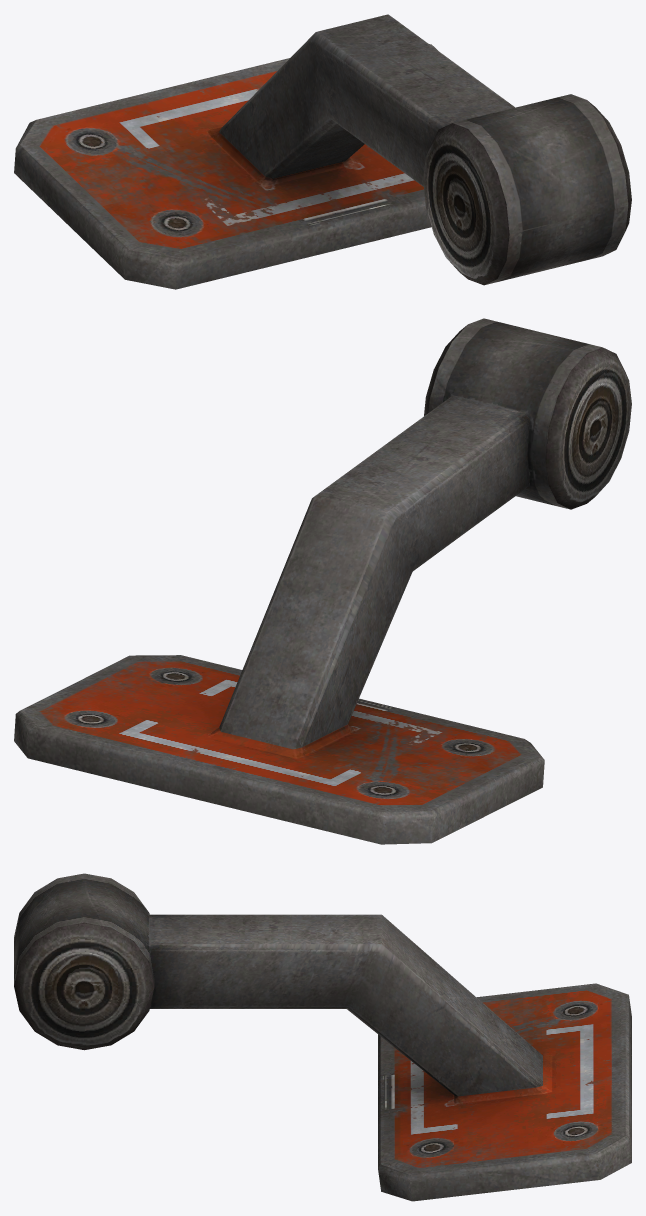
The model's file is roof_support_girder_tau_top.dae.
3 renders of one model, top to bottom at view 1: azimuth 30°, elevation 25°; view 2: azimuth 150°, elevation 25°; view 3: azimuth 270°, elevation 25°, orthographic. The views are drawn at different scales.
Visible parts, largest first — view 1: pCylinder3; view 2: pCylinder3; view 3: pCylinder3.
Part boxes in pixels (x1,y1,x2,y2): pCylinder3: (14,14,631,289); pCylinder3: (14,318,631,844); pCylinder3: (14,873,631,1201).
Bounding box in the file's own units: 1.18 × 0.7004 × 1.78.
